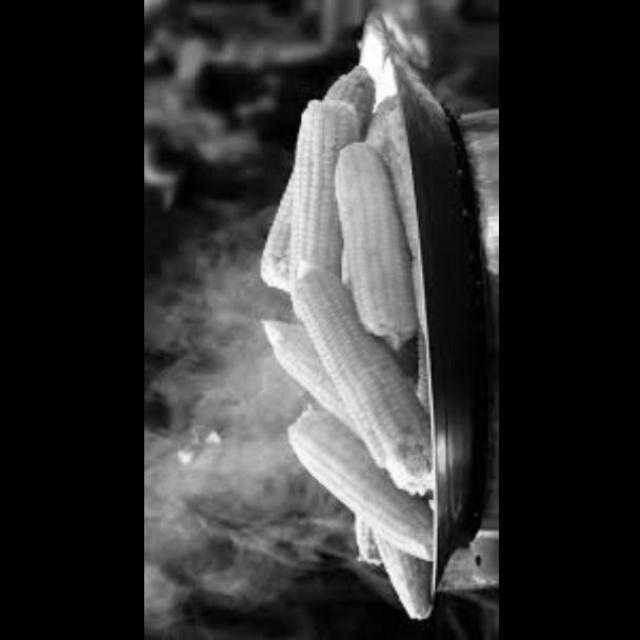ngu coc: (281, 248, 422, 492), (248, 63, 379, 293), (277, 410, 426, 558), (326, 140, 408, 344), (253, 311, 351, 430), (292, 91, 344, 312)
